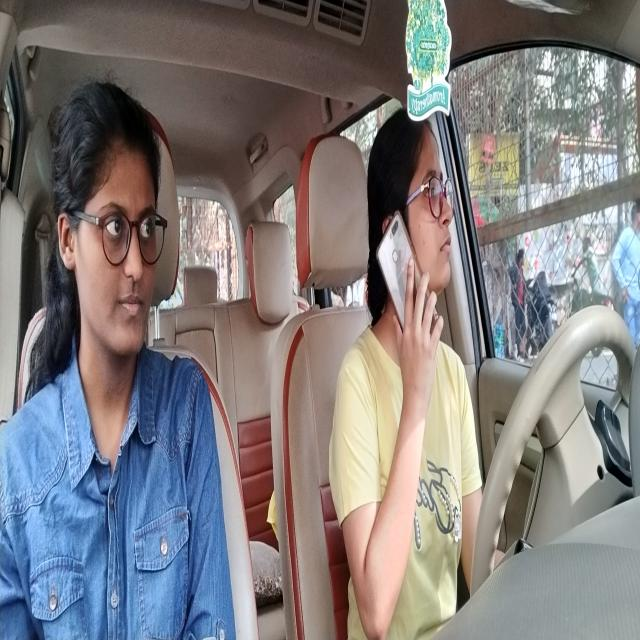mobile: (376, 211, 432, 371)
person: (34, 73, 173, 389), (366, 106, 460, 386)
